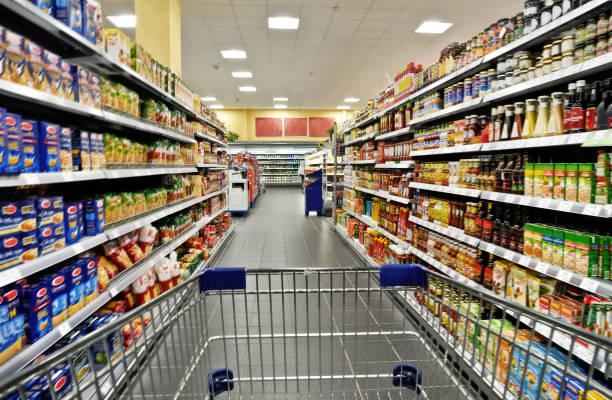article: (45, 269, 67, 326), (23, 39, 47, 90), (40, 121, 59, 171), (104, 240, 132, 269), (570, 81, 584, 130), (576, 163, 593, 202)
